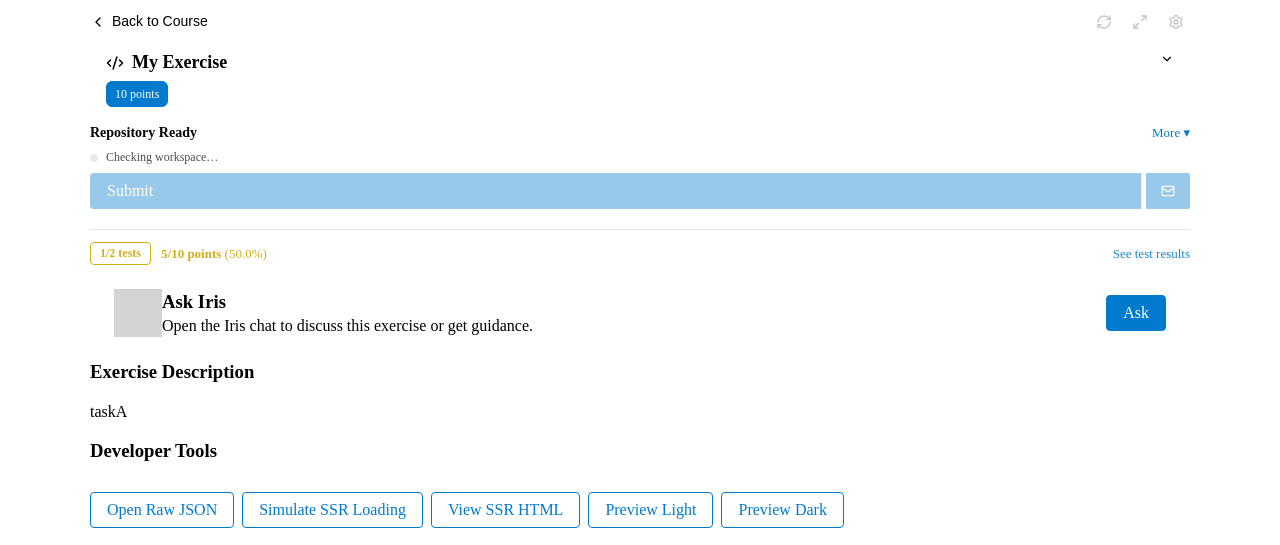
it: ExerciseDetailView › task overlay shows the Failed section plus a Not-executed note when partial coverage hits a failure
Click the text with class "artemis-task" at (109, 412), box [90, 403, 127, 420]
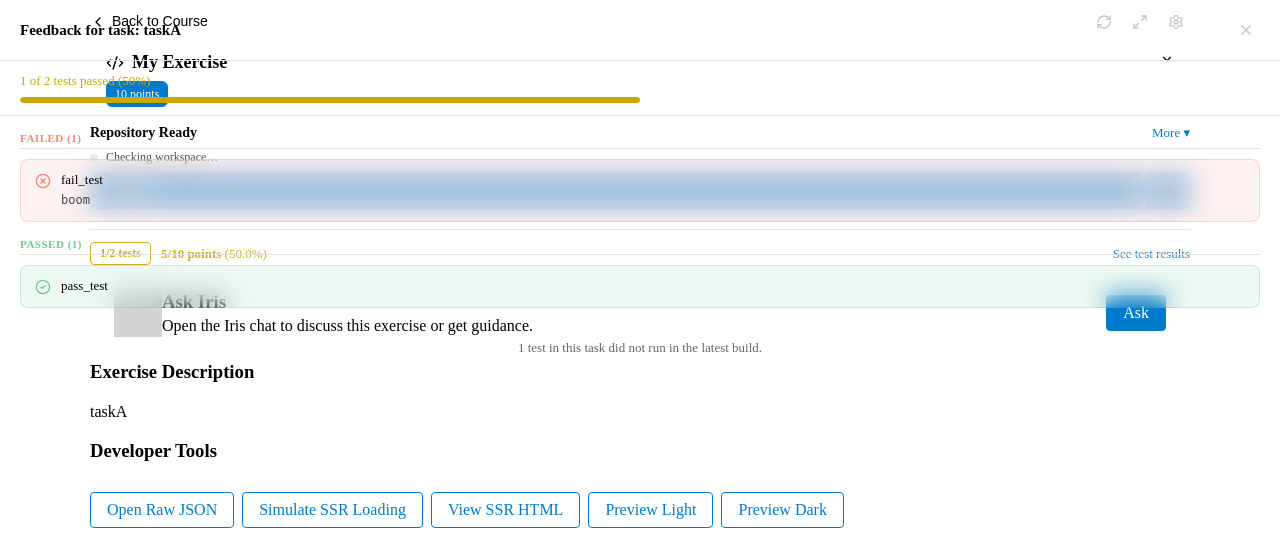
Result: the text "Failed (1)" is shown at [20, 132, 1260, 149]
Result: the text "Passed (1)" is shown at [20, 230, 1260, 255]
Result: the text "1 test in this task did not run in the latest build." is shown at [518, 340, 762, 355]
